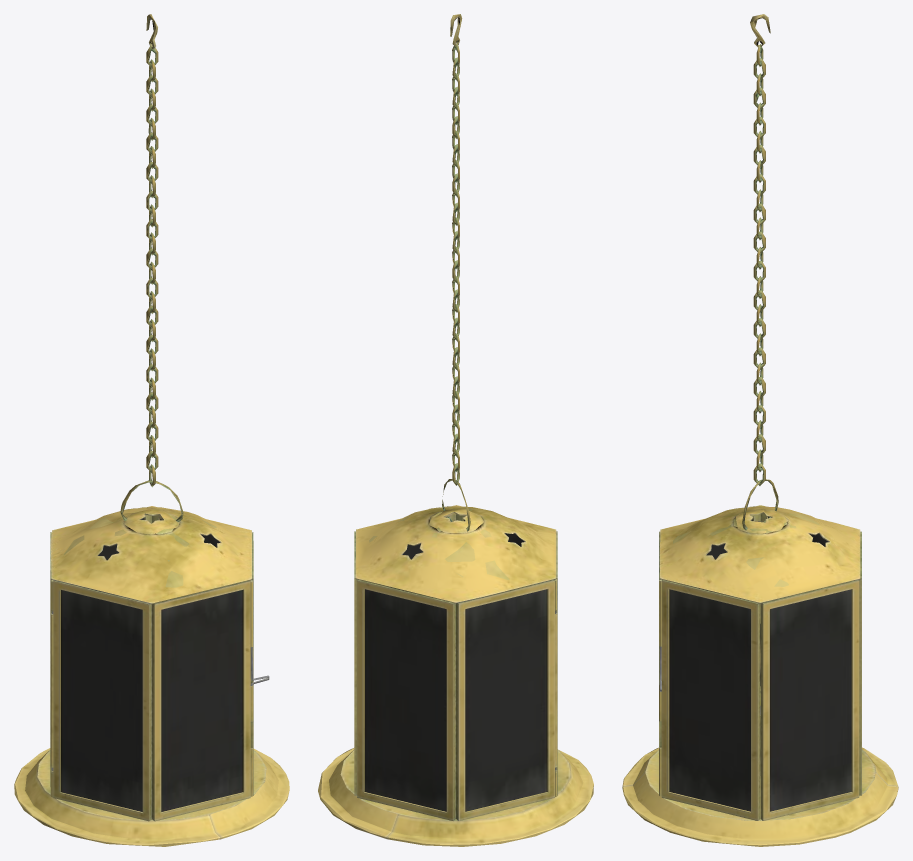
The model's file is brass_diya_lantern.glb.
3 renders of one model, left to right at view 1: azimuth 30°, elevation 25°; view 2: azimuth 150°, elevation 25°; view 3: azimuth 270°, elevation 25°, orthographic.
Visible parts, largest first — view 1: brass_diya_lantern, brass_diya_lantern_connection; view 2: brass_diya_lantern, brass_diya_lantern_connection; view 3: brass_diya_lantern, brass_diya_lantern_connection.
Part boxes in pixels (left/top/right/bottom): brass_diya_lantern: left=14, top=506, right=289, bottom=846; brass_diya_lantern_connection: left=120, top=14, right=183, bottom=521; brass_diya_lantern: left=318, top=505, right=593, bottom=846; brass_diya_lantern_connection: left=442, top=14, right=470, bottom=531; brass_diya_lantern: left=622, top=505, right=898, bottom=846; brass_diya_lantern_connection: left=742, top=14, right=778, bottom=529.
Size of the model in its own units: 0.123 by 0.3806 by 0.123.
Materials: 3 (3 with a texture image).
